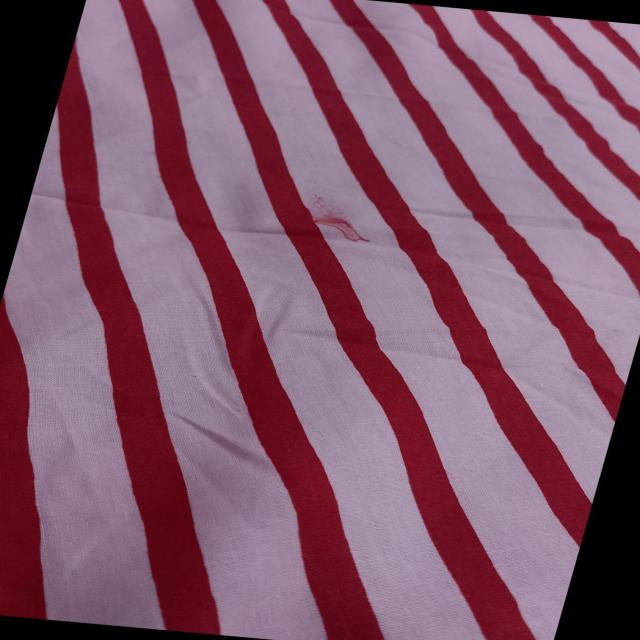color issues: (281, 188, 408, 262)
